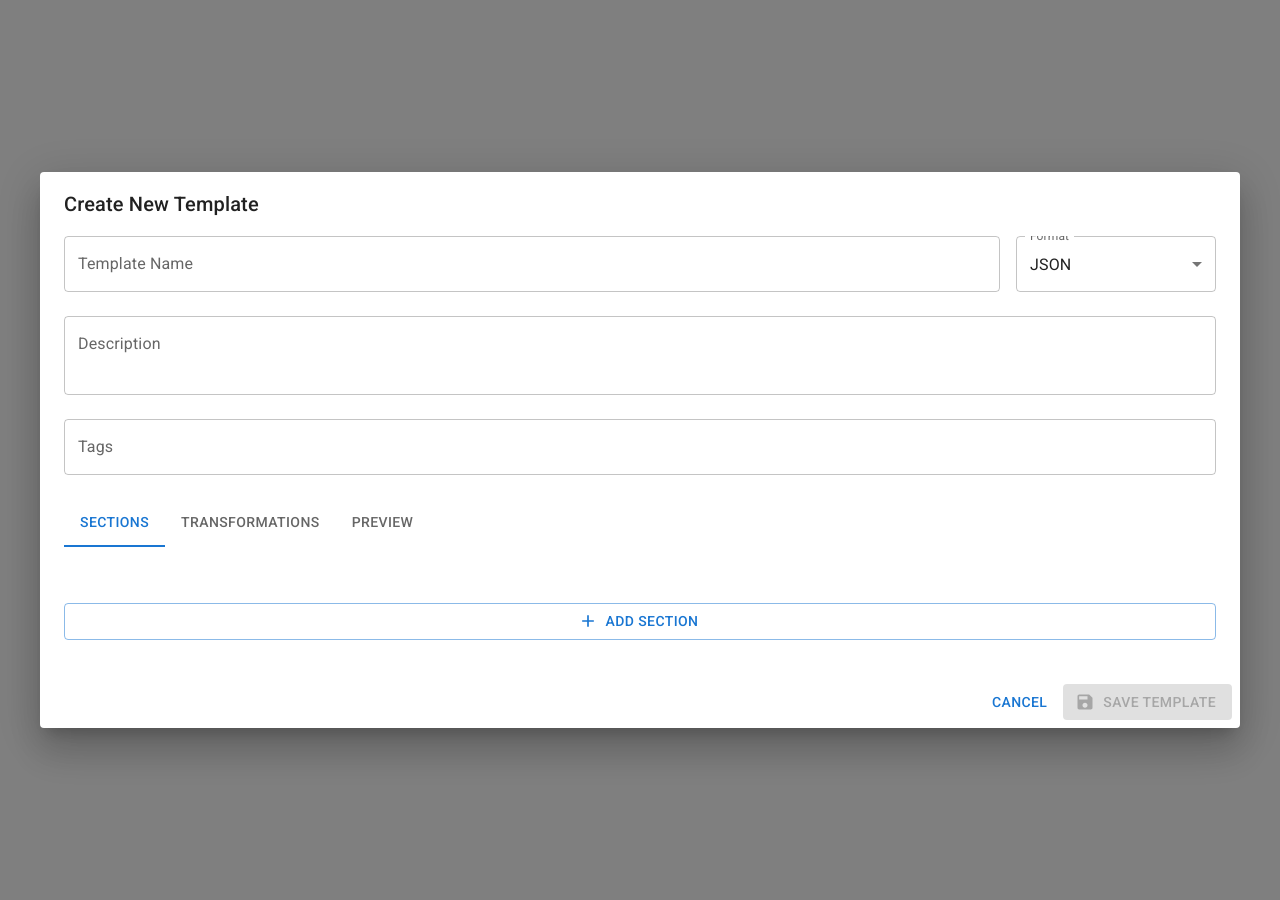
TemplateEditor › validates required fields before saving
Expected: the button "Save Template" is disabled, [1063,684,1232,720]
Type "New Template" into the field labelled "Template Name". click: {"x": 532, "y": 264}
box: [64,236,1000,292]
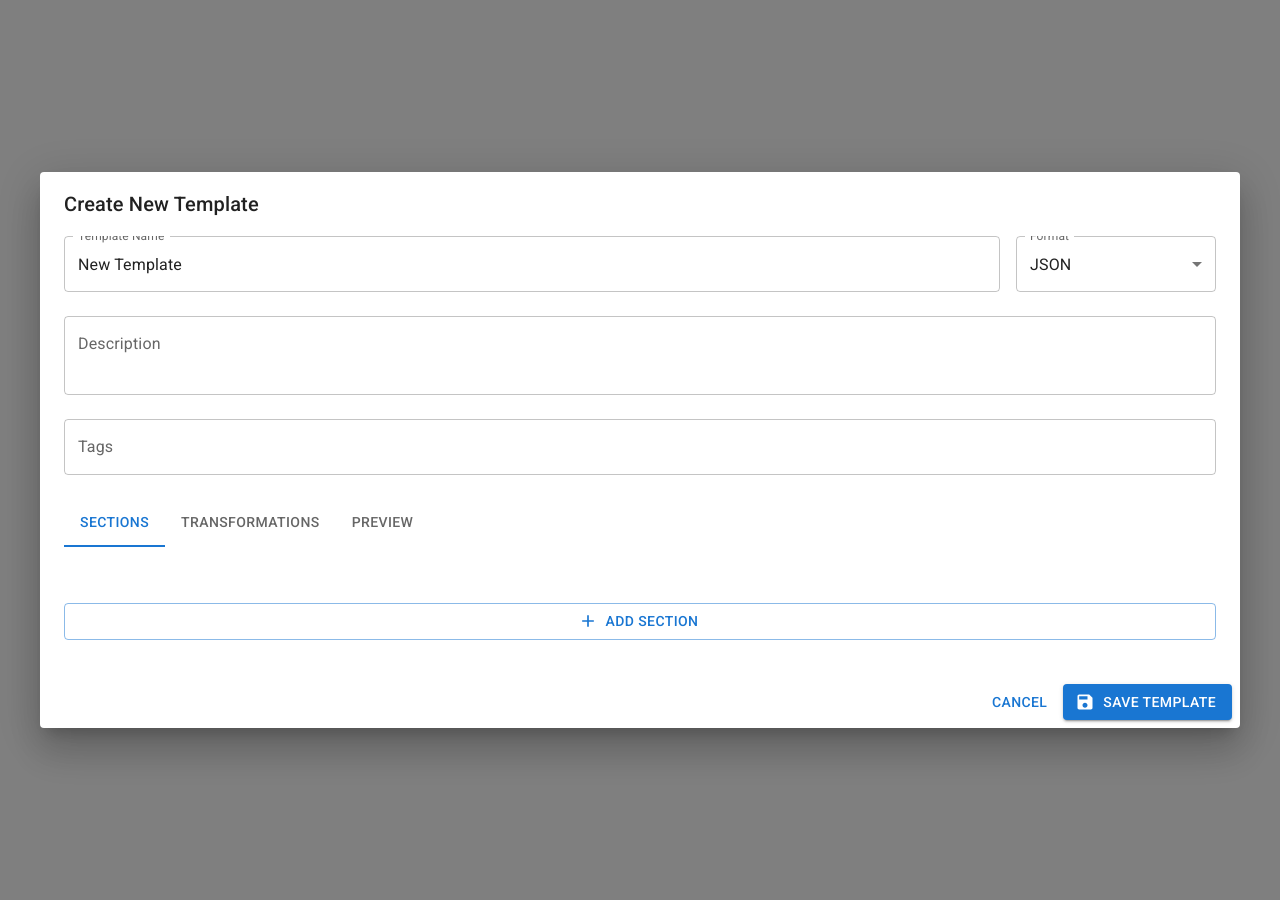
Now the button "Save Template" is enabled, box [1063,684,1232,720]
